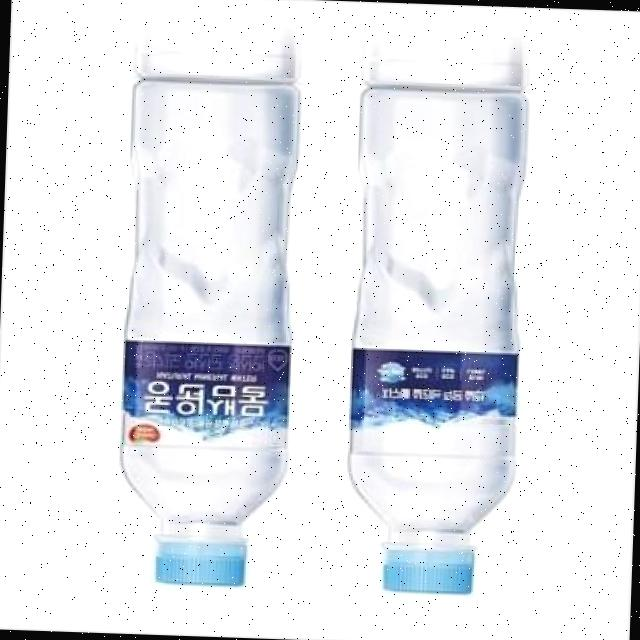bottle: (86, 11, 327, 604), (318, 25, 556, 610)
cap: (147, 528, 251, 592), (370, 546, 488, 598)
label: (342, 341, 518, 465), (124, 340, 291, 452)
